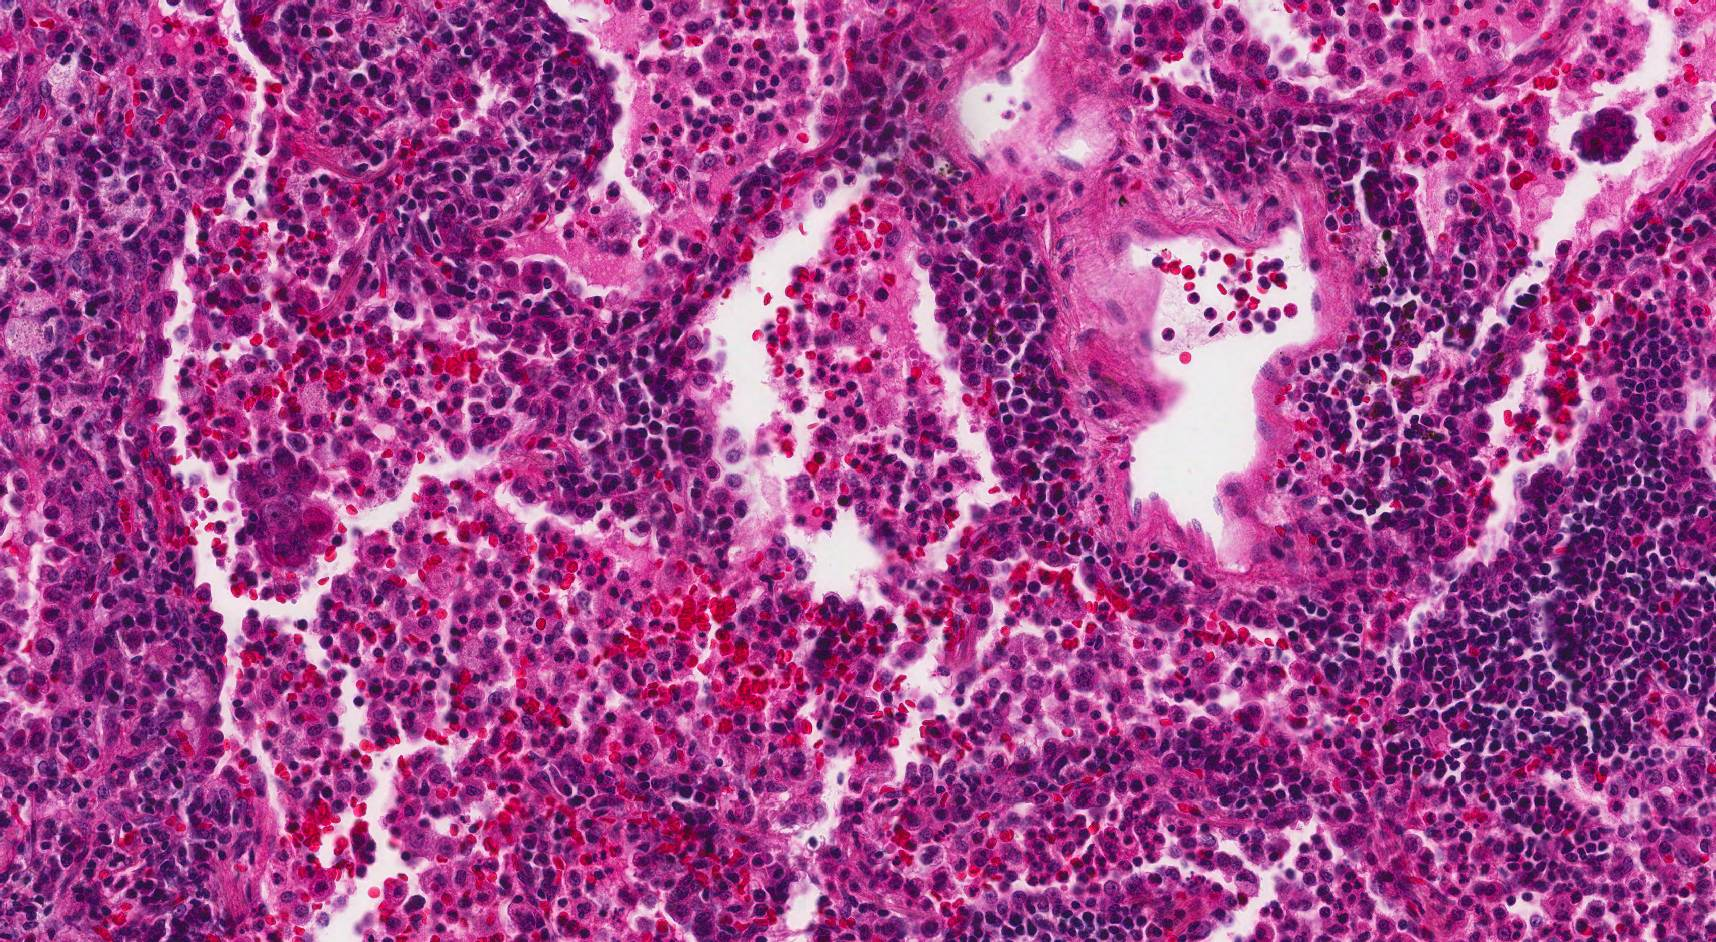stas: (235, 445, 339, 571)
